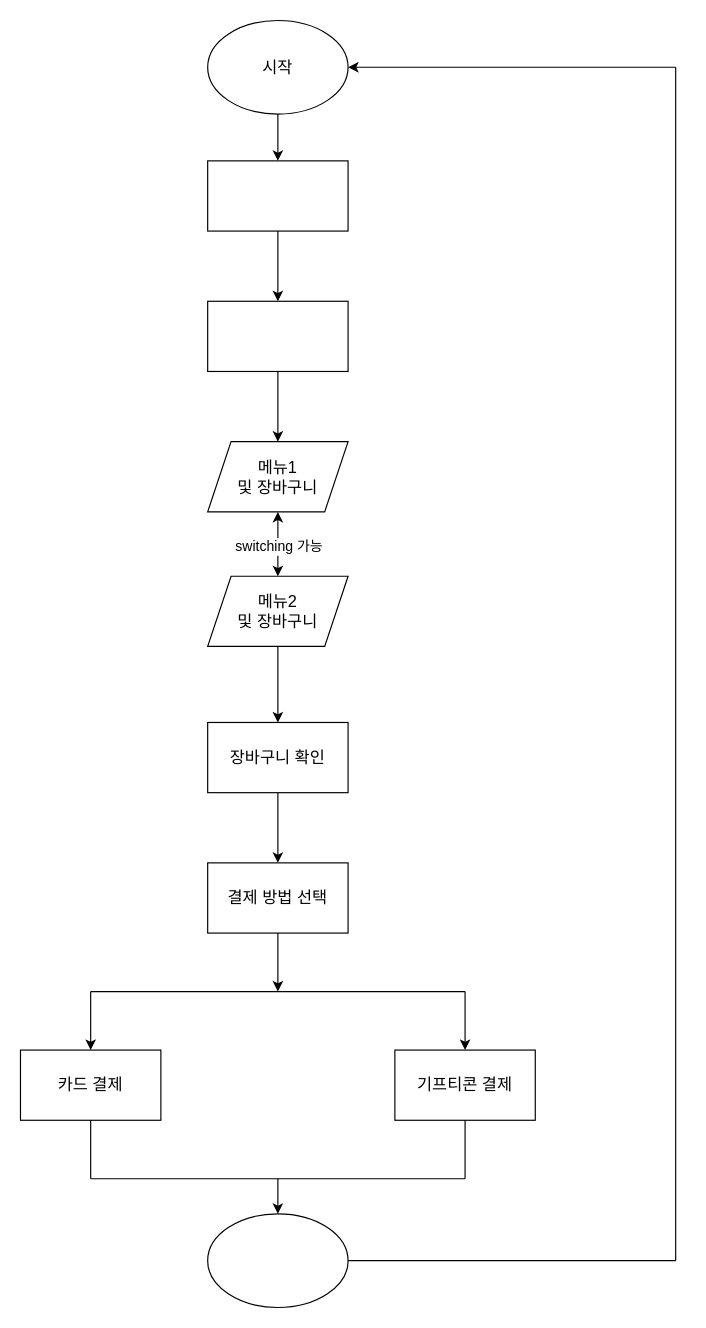
Image size: 706x1328. Some labels were removed from this diagram. The centre of each missing label's shape, as x and y in pixels:
"결제 완료 및 종료" goes at (x=277, y=1260).
"메인화면" goes at (x=277, y=195).
"시작화면 (클릭 시 이동)" goes at (x=277, y=335).
